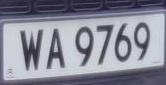6: (113, 19, 135, 70)
7: (94, 21, 117, 71)
9: (72, 23, 97, 73), (132, 17, 152, 65)
A: (45, 22, 68, 77)
W: (18, 24, 45, 76)
